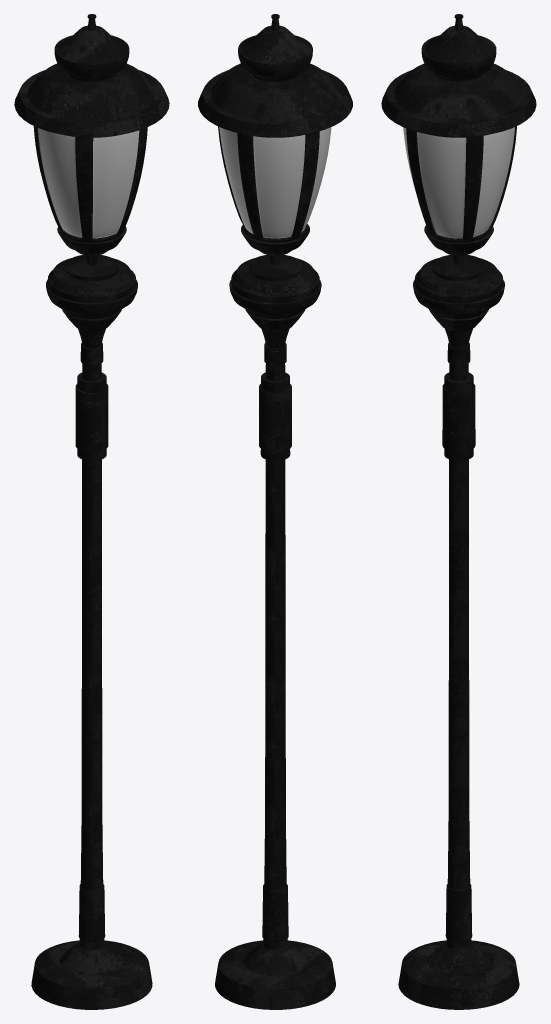
Rendered from lamp_post.glb.
3 renders of one model, left to right at view 1: azimuth 30°, elevation 25°; view 2: azimuth 150°, elevation 25°; view 3: azimuth 270°, elevation 25°, orthographic.
Visible parts, largest first — view 1: lamp1; view 2: lamp1; view 3: lamp1.
Part boxes in pixels (x1,y1,x2,y2): lamp1: (14, 14, 169, 1009); lamp1: (198, 14, 352, 1009); lamp1: (381, 14, 536, 1009).
Bounding box in the file's own units: 12.54 × 86.37 × 12.54.
2 materials, 1 textured.
